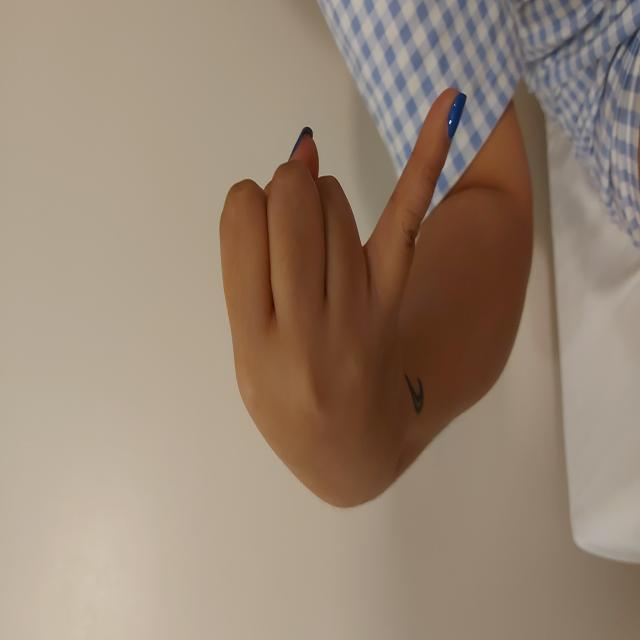J: (133, 219, 552, 467)
